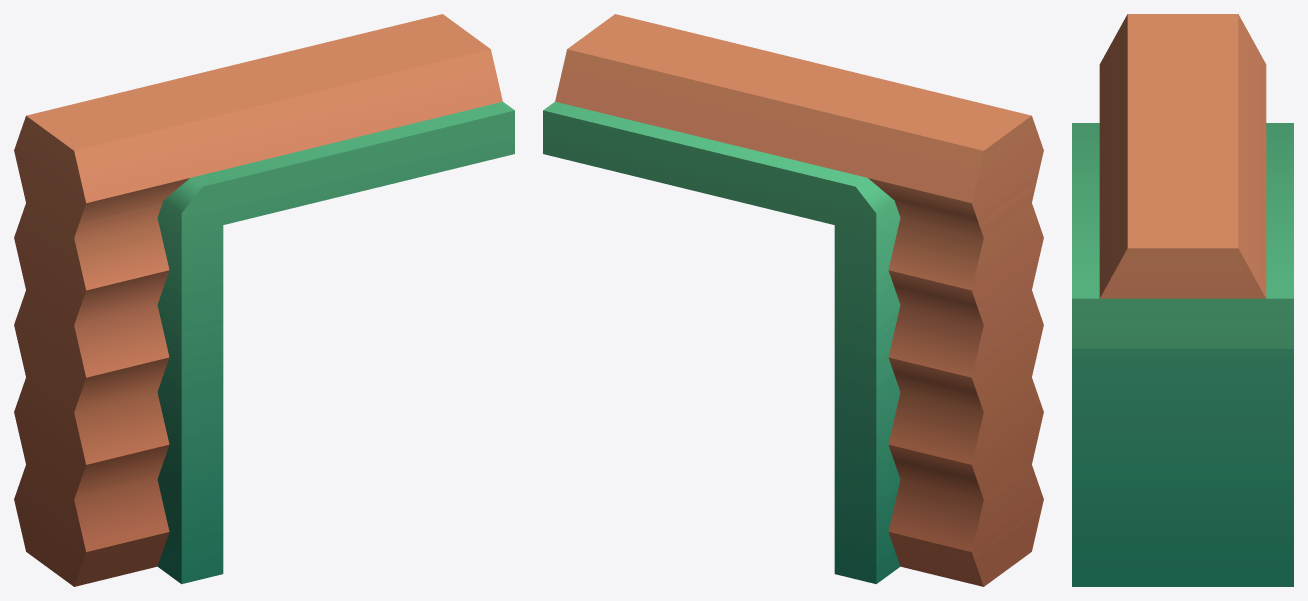
Rendered from kenney-holiday-cabin-doorway-left.glb.
3 views of the same model, side by side, from view 1: azimuth 30°, elevation 25°; view 2: azimuth 150°, elevation 25°; view 3: azimuth 270°, elevation 25° (orthographic). The views are drawn at different scales.
Parts seen in each view (by area): view 1: cabin-doorway-left; view 2: cabin-doorway-left; view 3: cabin-doorway-left.
Boxes of the visible parts, bbox=[...] form: cabin-doorway-left: bbox=[14, 14, 514, 586]; cabin-doorway-left: bbox=[543, 14, 1043, 586]; cabin-doorway-left: bbox=[1072, 14, 1293, 586].
Size of the model in its own units: 1 by 1 by 0.3999.
Materials: 1 (1 with a texture image).
